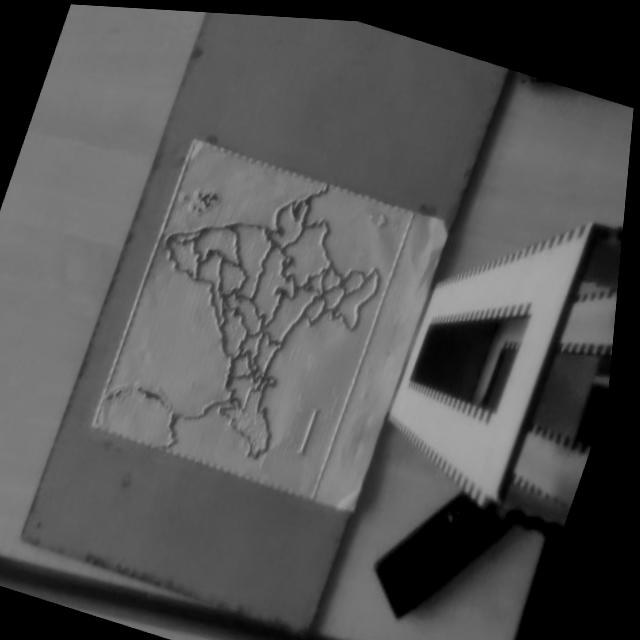map: (91, 134, 414, 504)
